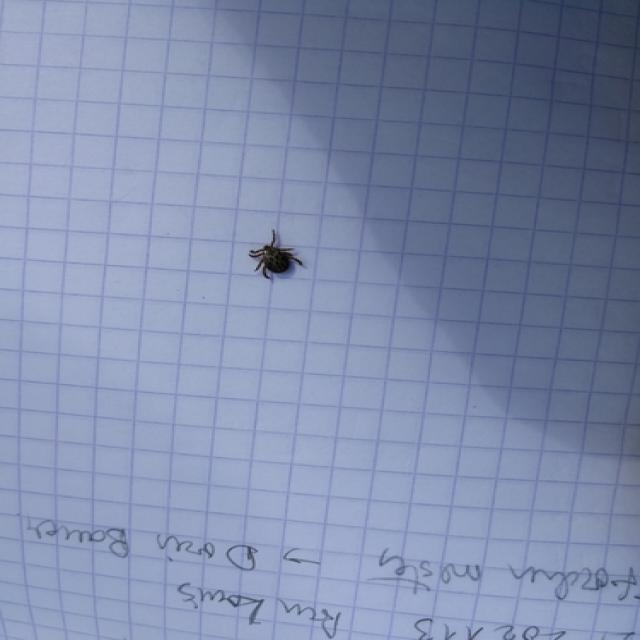Dermacentor Reticulatus-M: (247, 238, 302, 280)
